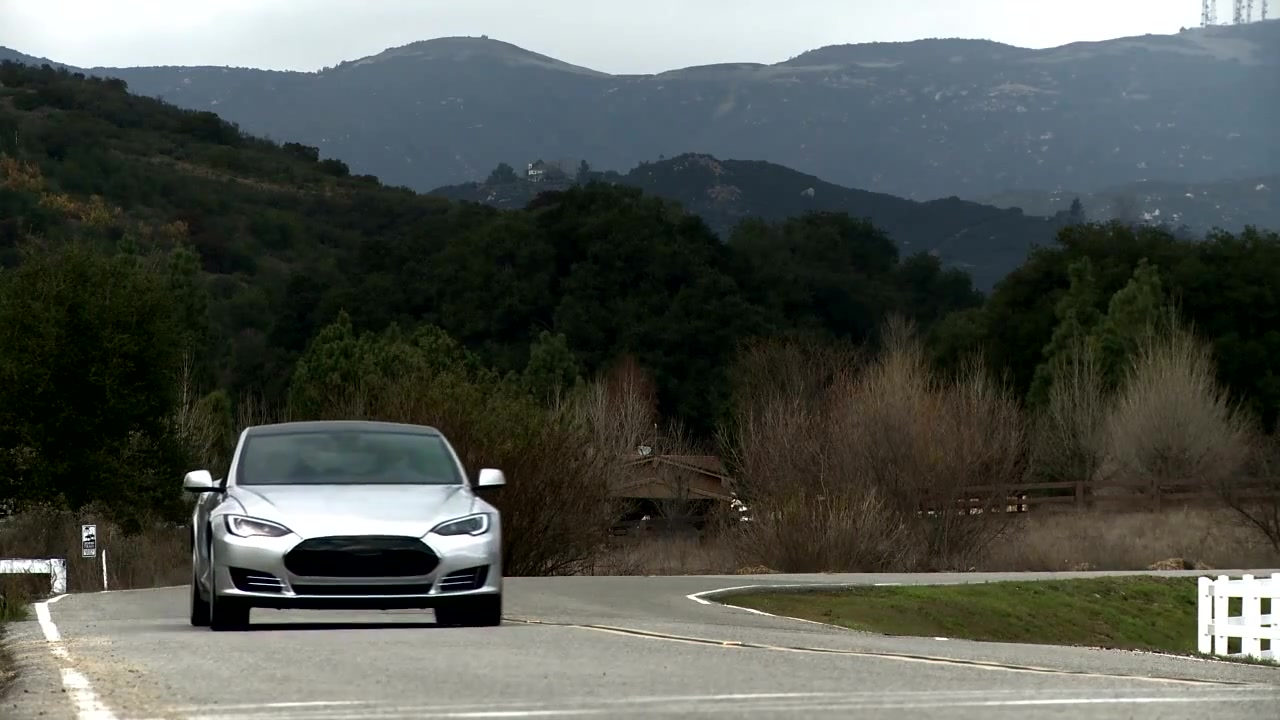car: (183, 418, 510, 630)
